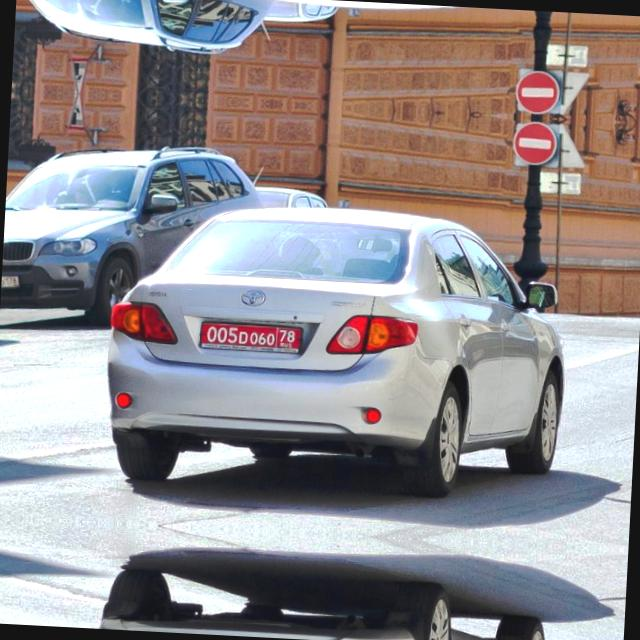diplomatic: (196, 317, 306, 358)
